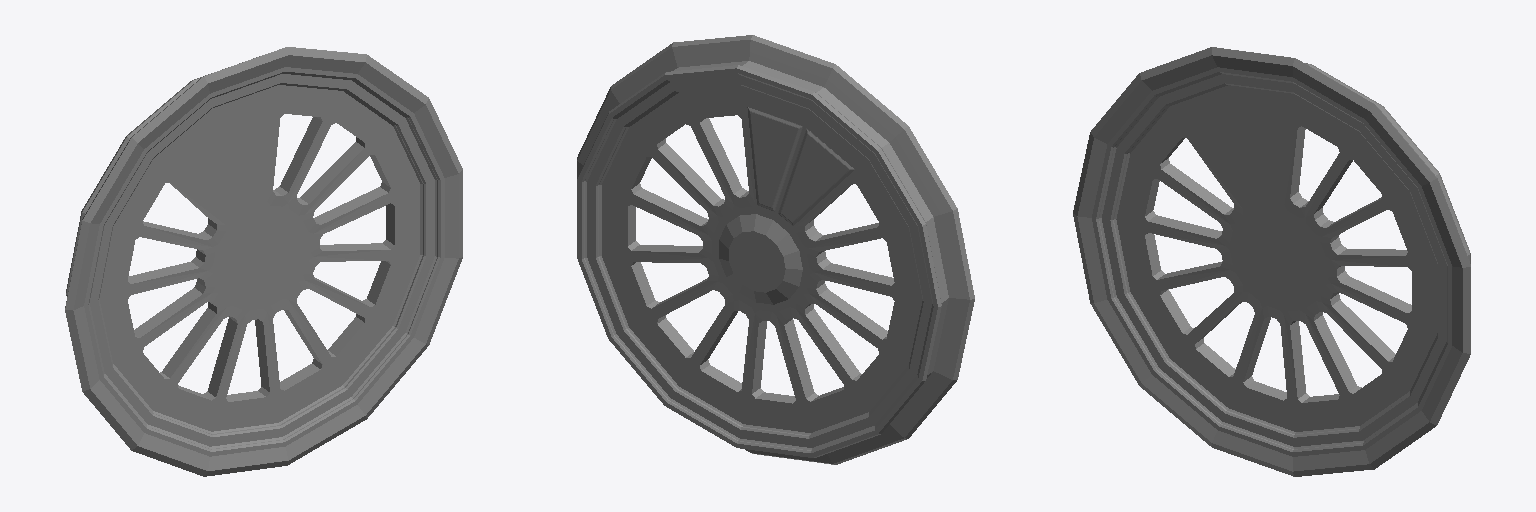
The model's file is left_front_big_wheel.obj.
3 views of the same model, side by side, from view 1: azimuth 30°, elevation 25°; view 2: azimuth 150°, elevation 25°; view 3: azimuth 330°, elevation 25° (orthographic).
Visible parts, largest first — view 1: left_front_big_wheel; view 2: left_front_big_wheel; view 3: left_front_big_wheel.
Boxes of the visible parts, <box> form: left_front_big_wheel: <box>65,47,462,476</box>; left_front_big_wheel: <box>577,35,974,464</box>; left_front_big_wheel: <box>1073,47,1470,476</box>.
Bounding box in the file's own units: 17.91 × 18.01 × 1.57.